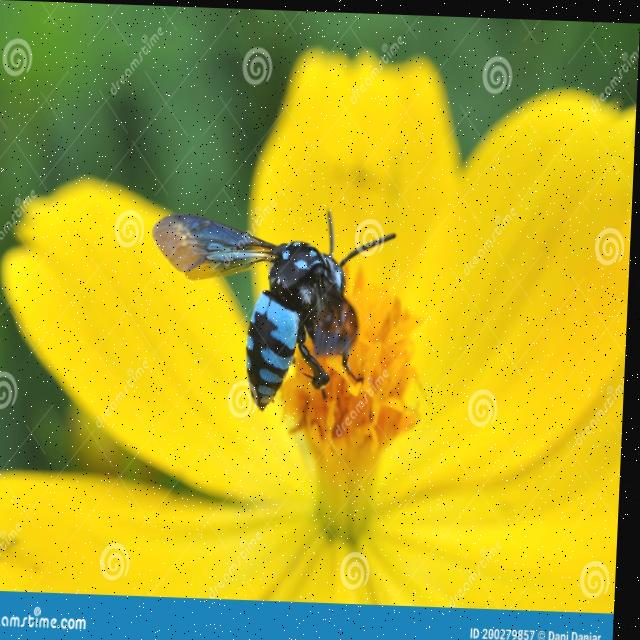Thyreus: (145, 192, 399, 433)
